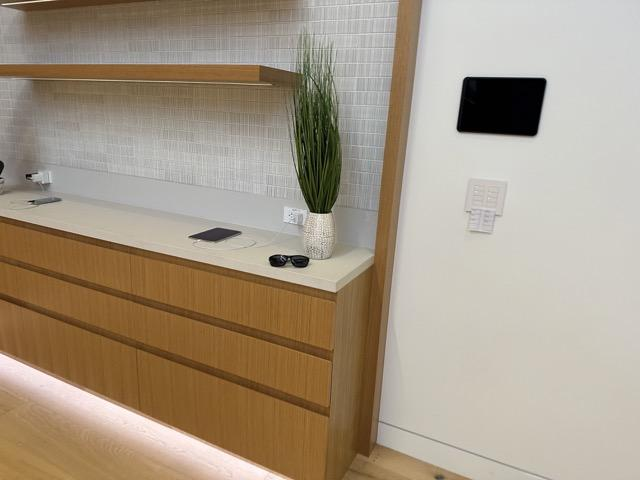Sunglasses: (270, 254, 310, 268)
